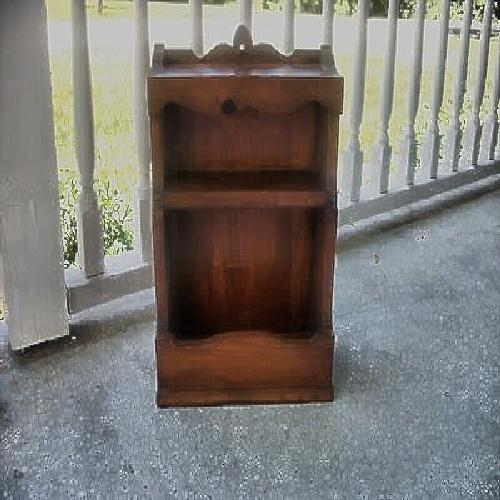cabinet: (127, 38, 350, 410)
